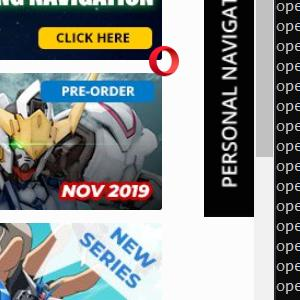opera: (149, 46, 179, 76)
